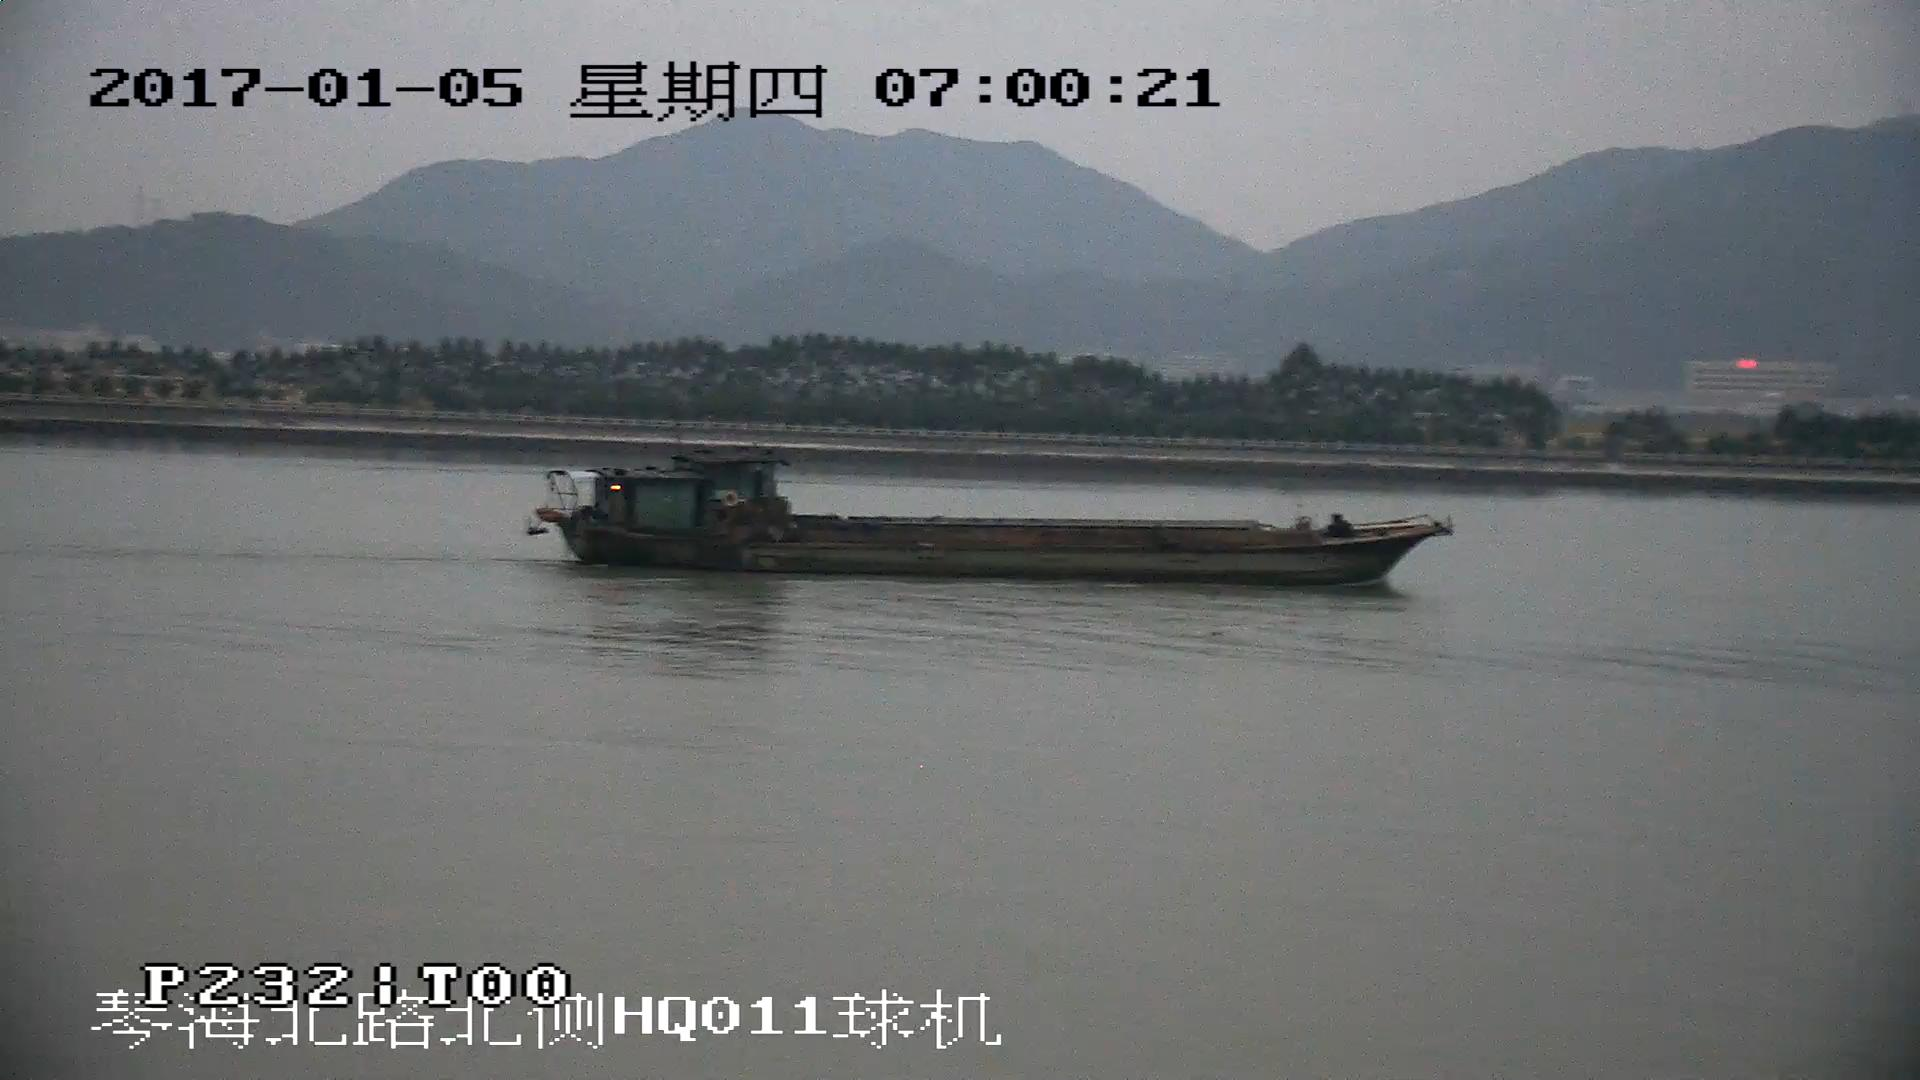bulk cargo carrier: (520, 452, 1453, 582)
